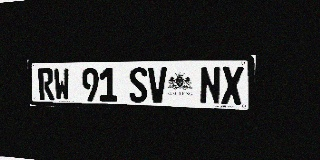1: (99, 67, 117, 102)
9: (82, 68, 99, 101)
N: (200, 66, 221, 104)
R: (38, 68, 55, 100)
S: (129, 67, 148, 103)
V: (148, 67, 167, 103)
W: (53, 68, 70, 101)
X: (221, 66, 244, 105)
